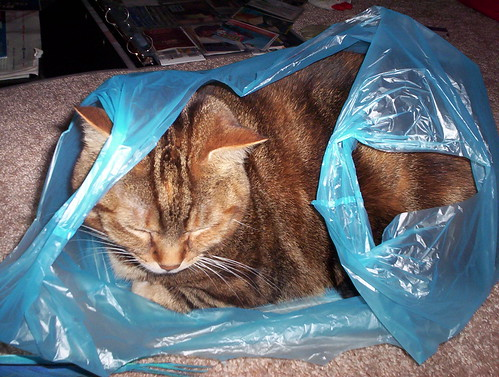plastic bag: (1, 5, 499, 377)
